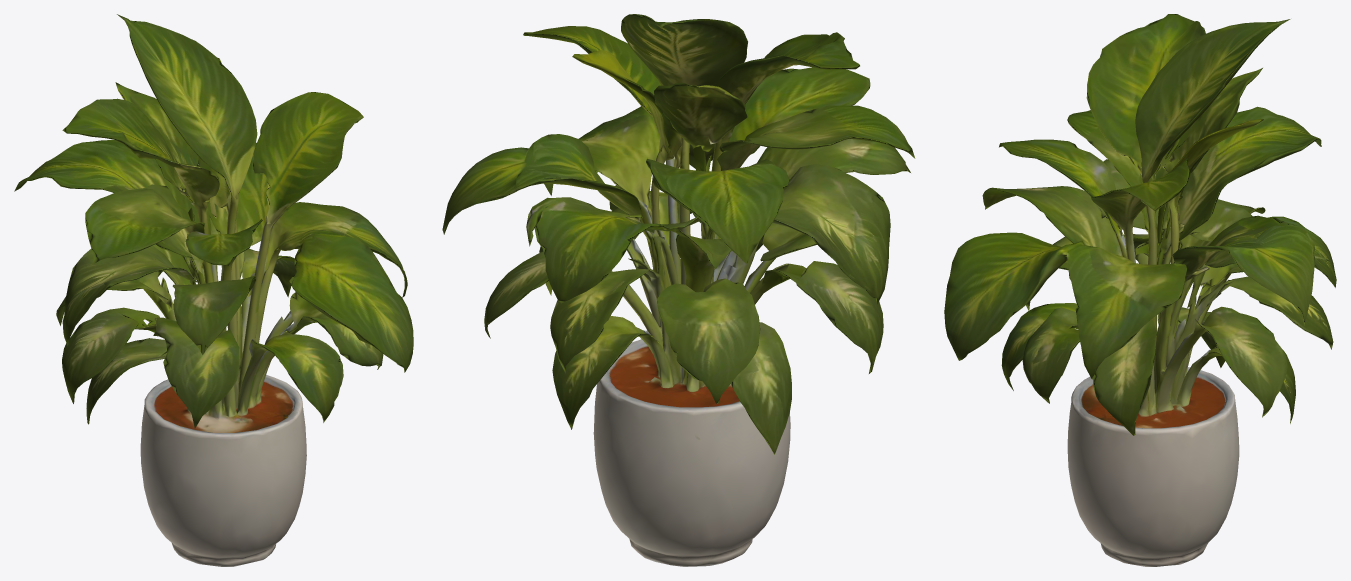
Rendered from planta.obj.
3 renders of one model, left to right at view 1: azimuth 30°, elevation 25°; view 2: azimuth 150°, elevation 25°; view 3: azimuth 270°, elevation 25°, orthographic. The views are drawn at different scales.
Parts seen in each view (by area): view 1: tripo_node_33b0d35d-cd9f-45ea-89f2-741bee0d247a; view 2: tripo_node_33b0d35d-cd9f-45ea-89f2-741bee0d247a; view 3: tripo_node_33b0d35d-cd9f-45ea-89f2-741bee0d247a.
Boxes of the visible parts, <box> form: tripo_node_33b0d35d-cd9f-45ea-89f2-741bee0d247a: <box>14,14,413,566</box>; tripo_node_33b0d35d-cd9f-45ea-89f2-741bee0d247a: <box>442,14,915,566</box>; tripo_node_33b0d35d-cd9f-45ea-89f2-741bee0d247a: <box>944,14,1336,566</box>.
Bounding box in the file's own units: 0.6683 × 0.9979 × 0.7002.
Materials: 1 (1 with a texture image).
